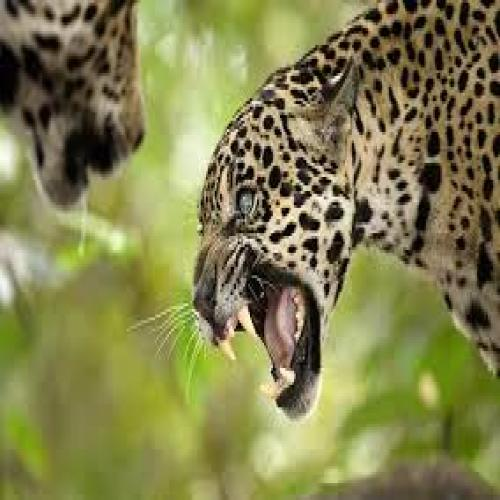jaguar_not-endangered: (192, 0, 500, 418), (0, 0, 144, 202)
